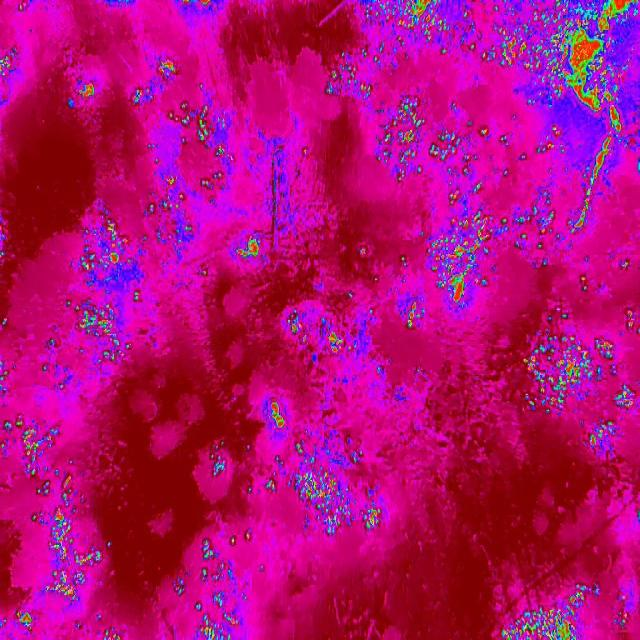fire: (0, 335, 122, 640), (194, 391, 400, 543), (134, 59, 232, 249), (489, 0, 640, 111), (61, 209, 148, 370), (428, 201, 565, 303), (516, 324, 619, 418), (496, 578, 628, 640), (168, 542, 248, 640), (543, 258, 639, 334), (374, 94, 429, 190), (431, 124, 492, 201), (498, 119, 566, 182), (572, 137, 616, 229), (326, 48, 392, 104), (393, 289, 429, 332), (227, 230, 260, 266), (582, 418, 617, 448), (613, 380, 640, 414), (280, 304, 304, 338), (603, 104, 627, 137), (326, 328, 348, 354), (0, 49, 18, 80), (75, 78, 97, 102), (178, 0, 218, 12)
